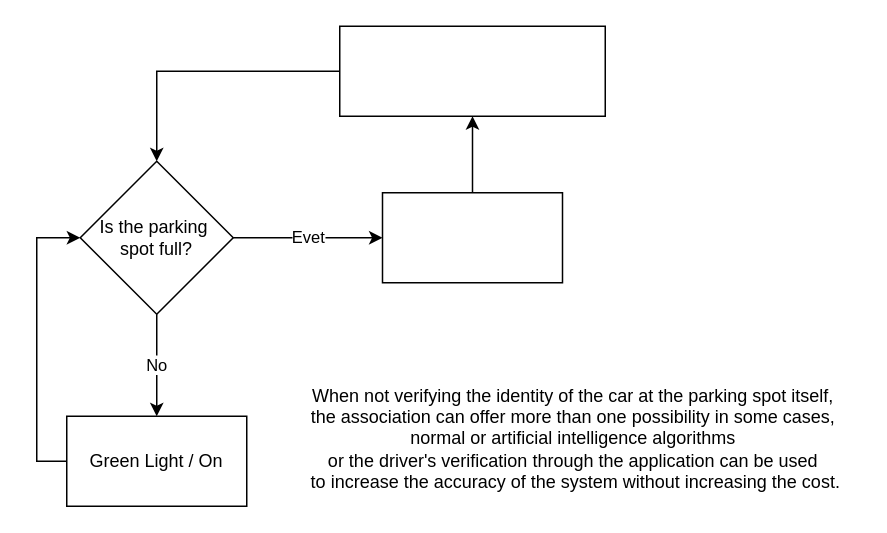
Some shapes in this 887 by 533 pixel diagram are drawn without their labels. The centre of each missing label's shape, as x and y in pixels:
"Green Light/ Off" goes at point 471,237.
"Link the parking spot and the car IDs" goes at point 471,70.
